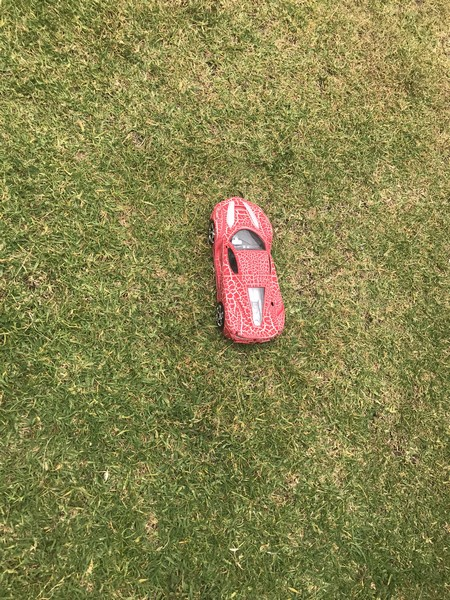RC: (206, 194, 286, 347)
